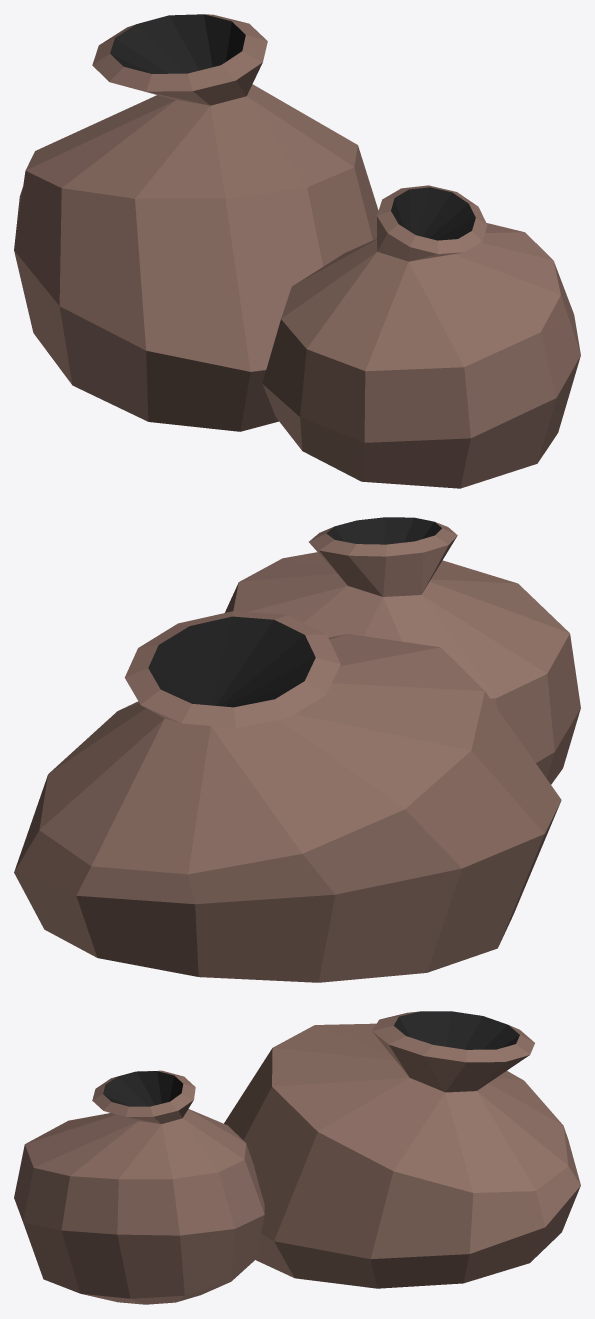
File: props_005.glb
The picture shows the model from 3 angles, top to bottom: view 1: azimuth 30°, elevation 25°; view 2: azimuth 150°, elevation 25°; view 3: azimuth 270°, elevation 25°; orthographic projection. The views are drawn at different scales.
Visible parts, largest first — view 1: props_005; view 2: props_005; view 3: props_005.
Part boxes in pixels (bbox=[...]): props_005: bbox=[14, 14, 580, 488]; props_005: bbox=[14, 517, 580, 982]; props_005: bbox=[14, 1011, 580, 1304].
Bounding box in the file's own units: 1.03 × 0.7529 × 1.62.
Materials: 1 (1 with a texture image).
